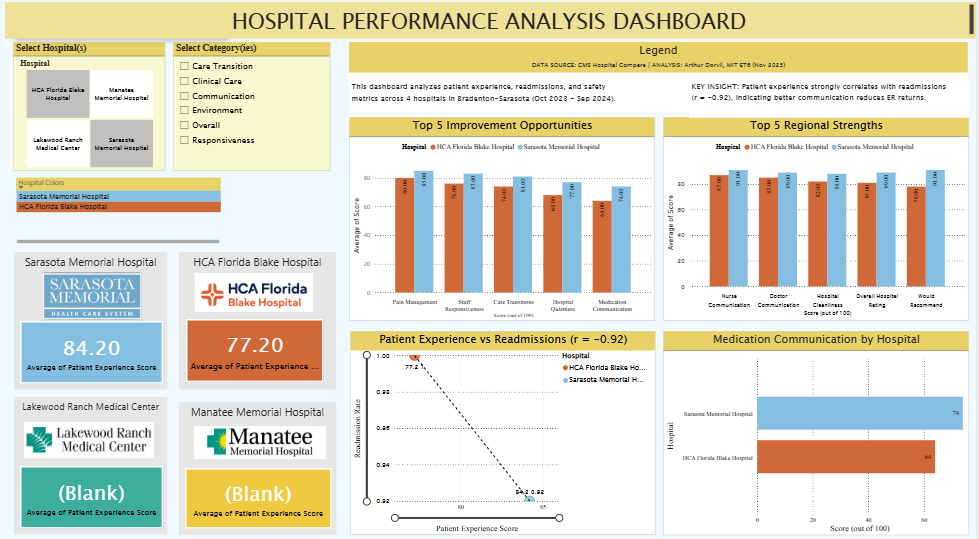

The page's visual inventory and layout, read from the dashboard file:
{"tool":"powerbi","page":{"name":"Page 1","canvas":[1920,1080],"ordinal":0},"visuals":[{"type":"group","id":"g1","title":"Group 1","box":[356,510.3,308,270.4],"z":0,"group":"g3"},{"type":"clusteredBarChart","title":"Medication Communication by Hospital","fields":{"Category":["hospital_measures_detailed.Hospital"],"Y":["Sum(hospital_measures_detailed.Score)"]},"box":[1304.8,665.3,600.8,400.9],"z":0},{"type":"textbox","box":[31.3,795.3,301.3,270],"z":0,"group":"g5"},{"type":"textbox","box":[356,510.3,308,270.4],"z":500,"group":"g1"},{"type":"textbox","box":[31.3,510.5,301.3,270],"z":500,"group":"g2"},{"type":"textbox","box":[355.7,804.5,308.7,260.8],"z":500,"group":"g4"},{"type":"clusteredColumnChart","title":"Top 5 Regional Strengths","fields":{"Category":["hospital_measures_detailed.Measure_Name"],"Y":["Avg(hospital_measures_detailed.Score)"],"Series":["hospital_measures_detailed.Hospital"]},"box":[1304.8,246,600.8,399.9],"z":1000},{"type":"card","title":"Sarasota Memorial Hospital","fields":{"Values":["Avg(hospital_summary.Patient_Experience_Score)"]},"box":[43.7,930.3,281.1,123.5],"z":1000,"group":"g5"},{"type":"card","title":"Sarasota Memorial Hospital","fields":{"Values":["Avg(hospital_summary.Patient_Experience_Score)"]},"box":[43.7,645.5,281.1,123.5],"z":1500,"group":"g2"},{"type":"card","title":"Sarasota Memorial Hospital","fields":{"Values":["Avg(hospital_summary.Patient_Experience_Score)"]},"box":[368.4,934.9,287.9,119.3],"z":1500,"group":"g4"},{"type":"clusteredColumnChart","title":"Top 5 Improvement Opportunities","fields":{"Category":["hospital_measures_detailed.Measure_Name"],"Y":["Avg(hospital_measures_detailed.Score)"],"Series":["hospital_measures_detailed.Hospital"]},"box":[690.2,246,600.8,399.9],"z":2000},{"type":"card","title":"HCA Florida Blake Hospital","fields":{"Values":["Avg(hospital_summary.Patient_Experience_Score)"]},"box":[370,641.6,270.3,123.7],"z":3000,"group":"g3"},{"type":"scatterChart","title":"Patient Experience vs Readmissions (r = -0.92)","fields":{"X":["hospital_summary.Patient_Experience_Score"],"Y":["hospital_summary.Readmission_Rate"],"Series":["hospital_summary.Hospital"]},"box":[691.1,665.3,599.9,399.9],"z":3000},{"type":"slicer","title":"Select Hospital(s)","fields":{"Values":["hospital_summary.Hospital"]},"box":[29.5,98.6,299.5,253.4],"z":4000},{"type":"slicer","title":"Select Category(ies)","fields":{"Values":["hospital_measures_detailed.Measure_Category"]},"box":[342.8,98.6,308.7,253.4],"z":5000},{"type":"textbox","box":[29.5,47,412.8,37.8],"z":6000},{"type":"textbox","box":[13.8,20.3,1906.6,71.9],"z":7000},{"type":"group","id":"g2","title":"Group 1","box":[31.3,510.5,301.3,270],"z":8000},{"type":"group","id":"g3","title":"Group 2","box":[356,458,308,323],"z":9000},{"type":"group","id":"g4","title":"Group 3","box":[355.7,804.5,308.7,260.8],"z":10000},{"type":"textbox","title":"Legend","box":[690.2,98.6,1215.5,138.2],"z":11000},{"type":"group","id":"g5","title":"Group 4","box":[31.3,795.3,301.3,270],"z":12000},{"type":"image","box":[51.6,844.1,255.3,71],"z":12000,"group":"g5"},{"type":"tableEx","fields":{"Values":["hospital_summary.Hospital"]},"box":[29,360,413,140],"z":13000},{"type":"image","box":[381.9,458,241.8,265.8],"z":13000,"group":"g3"},{"type":"image","box":[81.5,521.1,205.5,154.8],"z":13000,"group":"g2"},{"type":"image","box":[384.3,851.5,258.9,64.5],"z":13003,"group":"g4"},{"type":"textbox","box":[1356,168,550,78],"z":14001}]}

Visuals, with their boxes in screenshot pixels (x1, y1, x2, y2), scaled from the page's 1920x1080 canvas onto the 979x539 screenshot:
"Group 1" group: x1=182, y1=255, x2=339, y2=390
"Medication Communication by Hospital" clusteredBarChart: x1=665, y1=332, x2=972, y2=532
textbox: x1=16, y1=397, x2=170, y2=532
textbox: x1=182, y1=255, x2=339, y2=390
textbox: x1=16, y1=255, x2=170, y2=390
textbox: x1=181, y1=402, x2=339, y2=532
"Top 5 Regional Strengths" clusteredColumnChart: x1=665, y1=123, x2=972, y2=322
"Sarasota Memorial Hospital" card: x1=22, y1=464, x2=166, y2=526
"Sarasota Memorial Hospital" card: x1=22, y1=322, x2=166, y2=384
"Sarasota Memorial Hospital" card: x1=188, y1=467, x2=335, y2=526
"Top 5 Improvement Opportunities" clusteredColumnChart: x1=352, y1=123, x2=658, y2=322
"HCA Florida Blake Hospital" card: x1=189, y1=320, x2=326, y2=382
"Patient Experience vs Readmissions (r = -0.92)" scatterChart: x1=352, y1=332, x2=658, y2=532
"Select Hospital(s)" slicer: x1=15, y1=49, x2=168, y2=176
"Select Category(ies)" slicer: x1=175, y1=49, x2=332, y2=176
textbox: x1=15, y1=23, x2=226, y2=42
textbox: x1=7, y1=10, x2=978, y2=46
"Group 1" group: x1=16, y1=255, x2=170, y2=390
"Group 2" group: x1=182, y1=229, x2=339, y2=390
"Group 3" group: x1=181, y1=402, x2=339, y2=532
"Legend" textbox: x1=352, y1=49, x2=972, y2=118
"Group 4" group: x1=16, y1=397, x2=170, y2=532
image: x1=26, y1=421, x2=156, y2=457
tableEx - hospital_summary.Hospital: x1=15, y1=180, x2=225, y2=250
image: x1=195, y1=229, x2=318, y2=361
image: x1=42, y1=260, x2=146, y2=337
image: x1=196, y1=425, x2=328, y2=457
textbox: x1=691, y1=84, x2=972, y2=123
